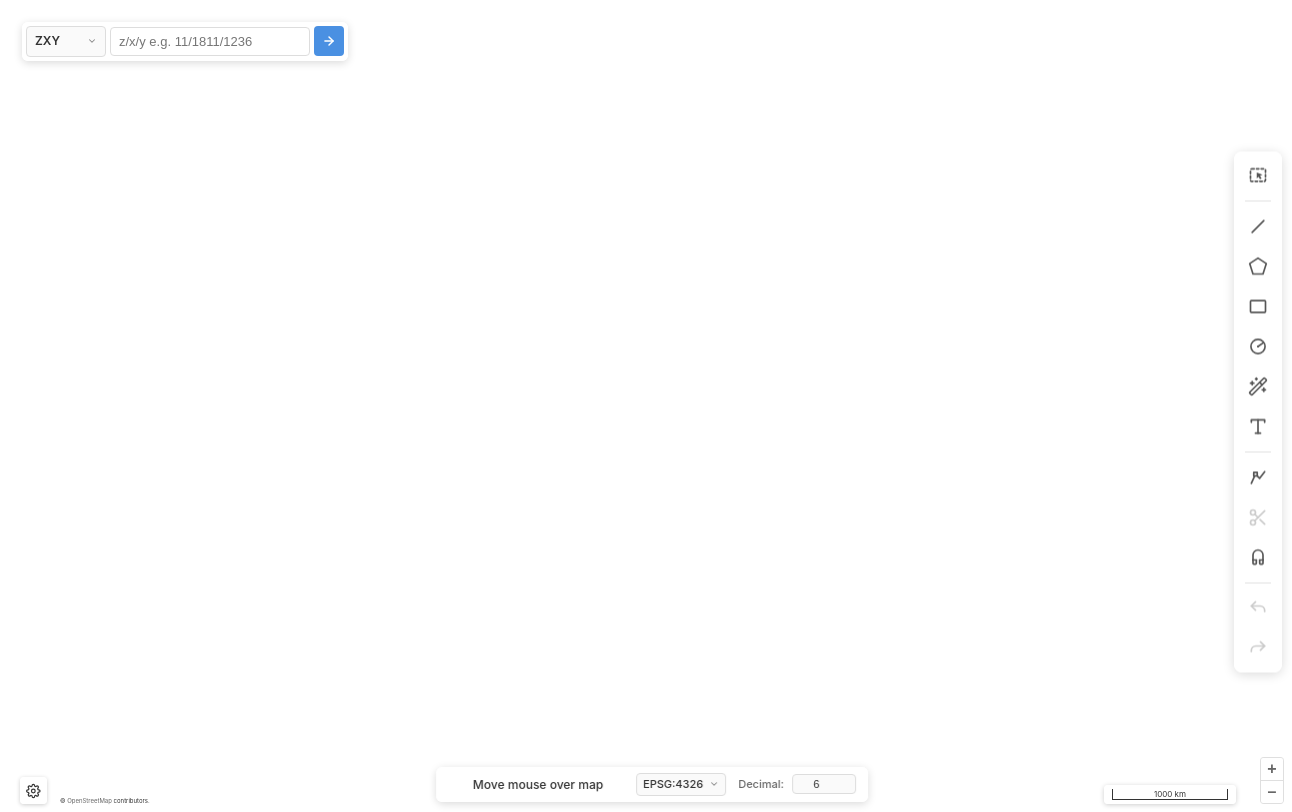
Test case: Delete removes the picked-up vertex
Click the button titled "Draw Line": (1258, 226) [1240,208,1276,244]
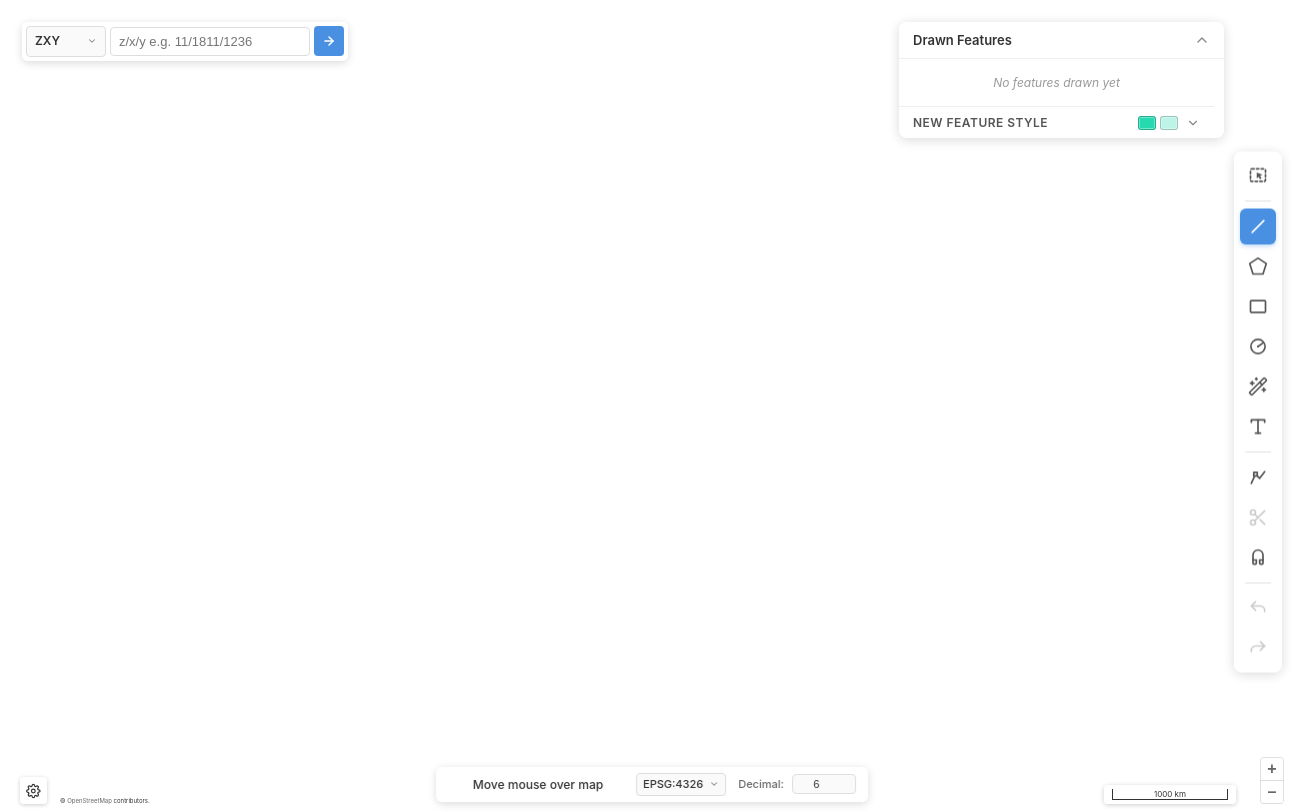
Press the mouse on the element with class "ol-viewport": (652, 412) [12,12,1291,811]
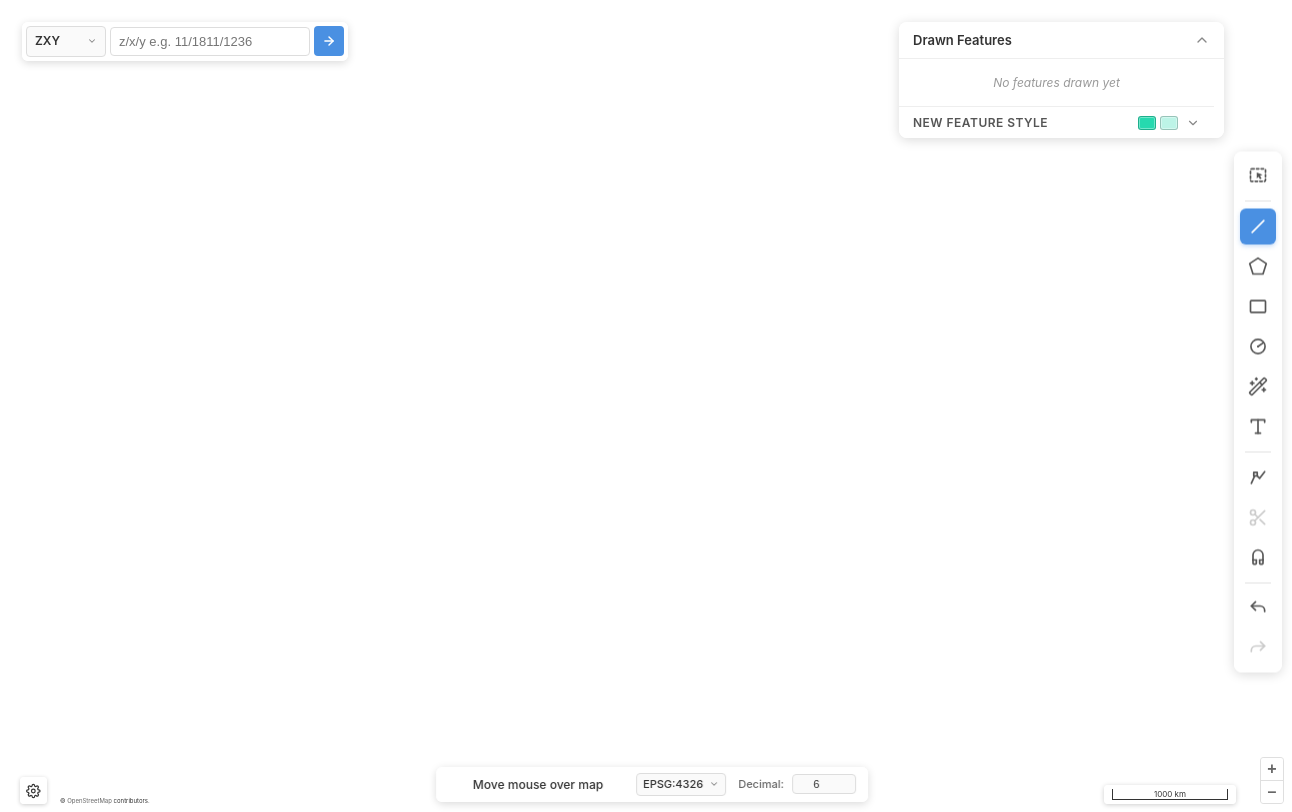
Press the mouse on the element with class "ol-viewport": (652, 412) [12,12,1291,811]
Press the mouse on the element with class "ol-viewport": (652, 412) [12,12,1291,811]
Press the mouse on the element with class "ol-viewport": (652, 412) [12,12,1291,811]
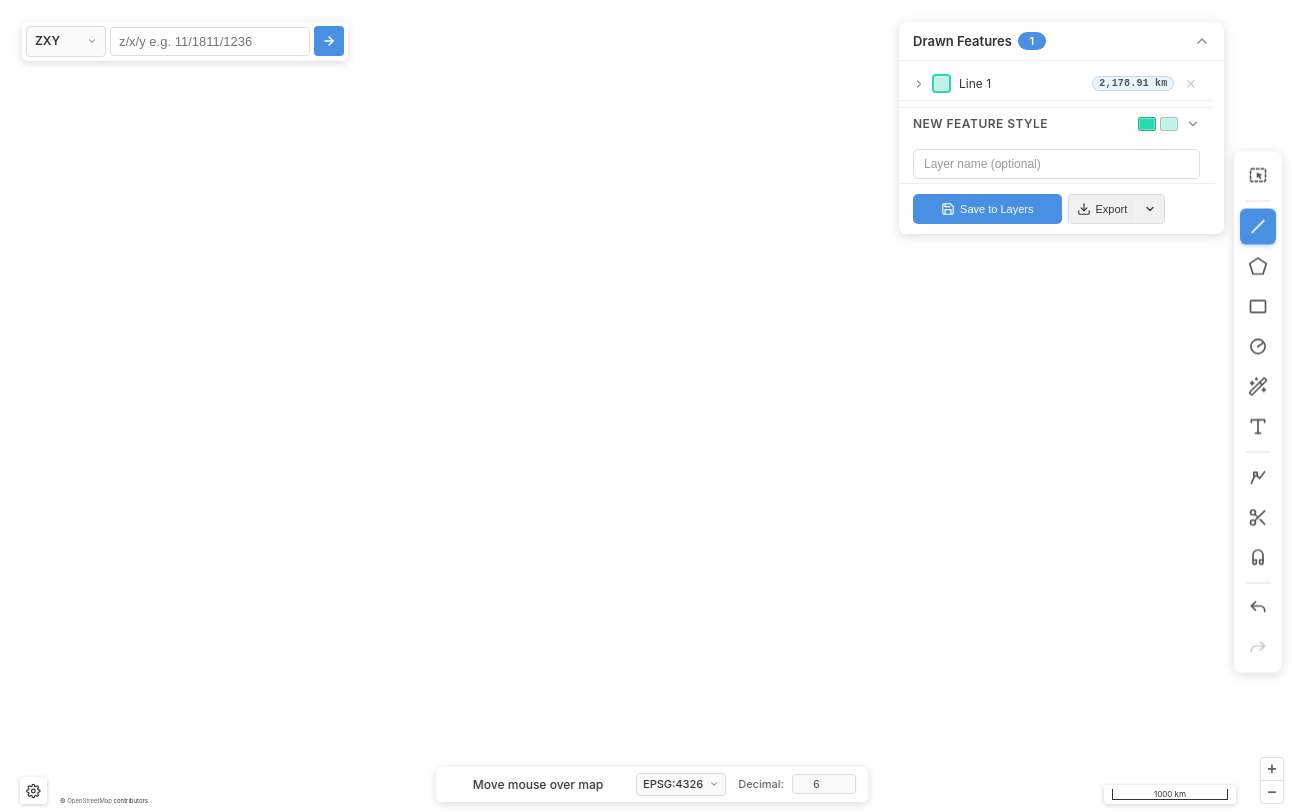
Click the button titled "Edit vertices — drag to reshape drawn features": (1258, 478) [1240,460,1276,496]
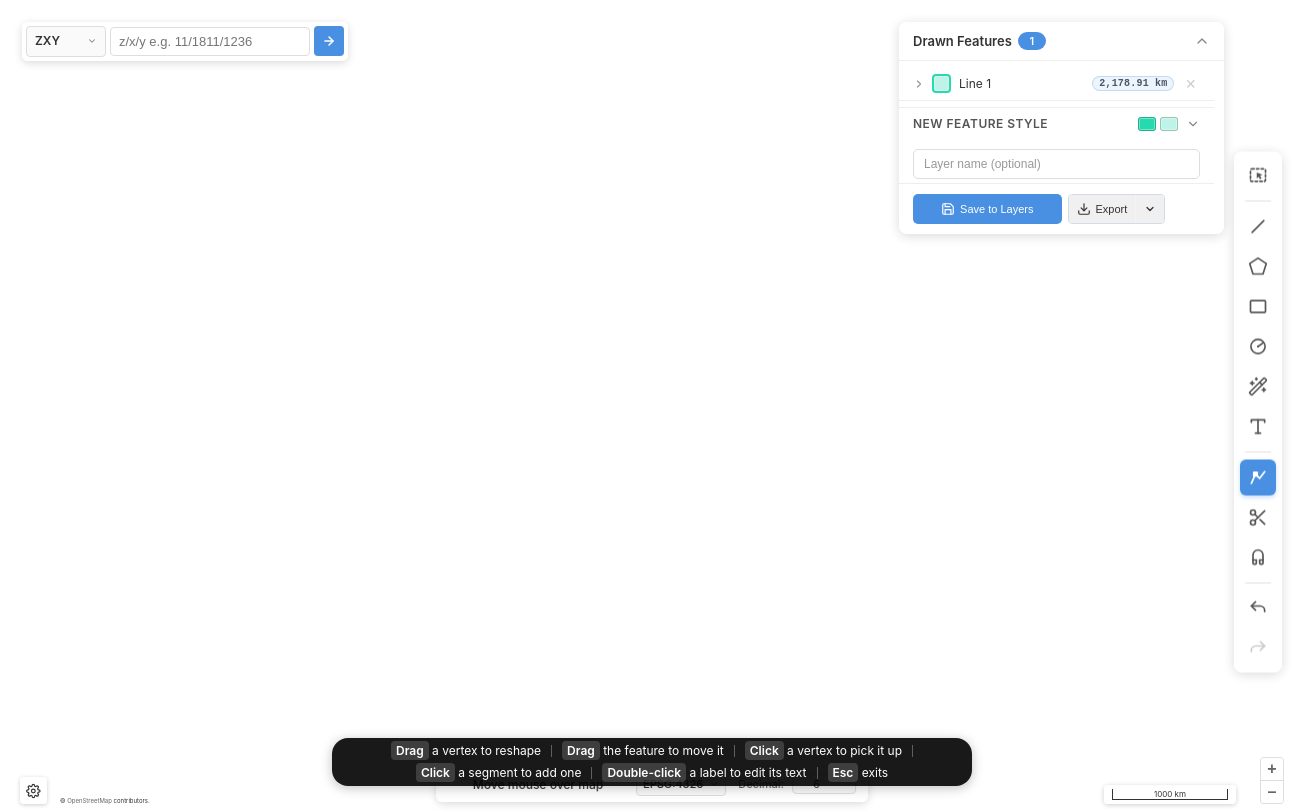
Press the mouse on the element with class "ol-viewport": (652, 412) [12,12,1291,811]
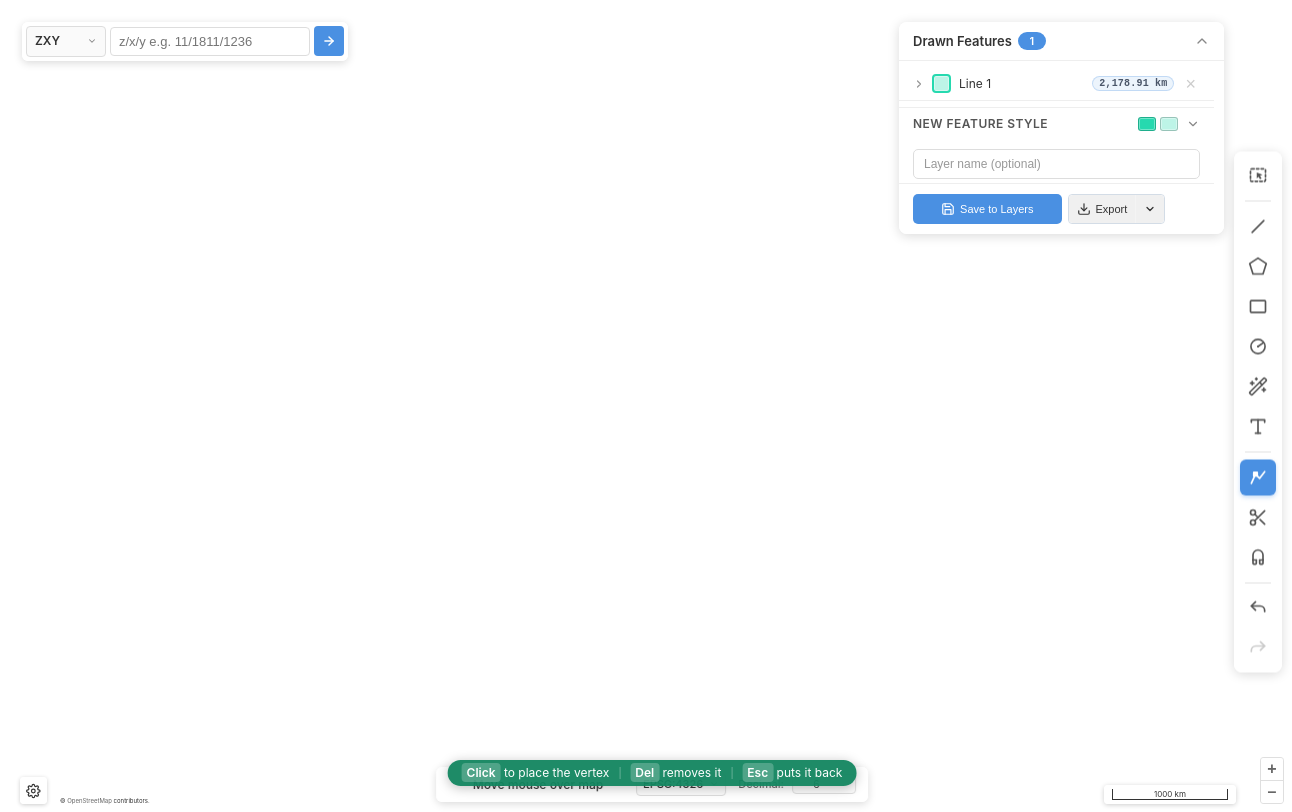
Now the message with class "draw-modify-hint" shows "Click to place the vertex", box [448,760,856,786]
Press Delete
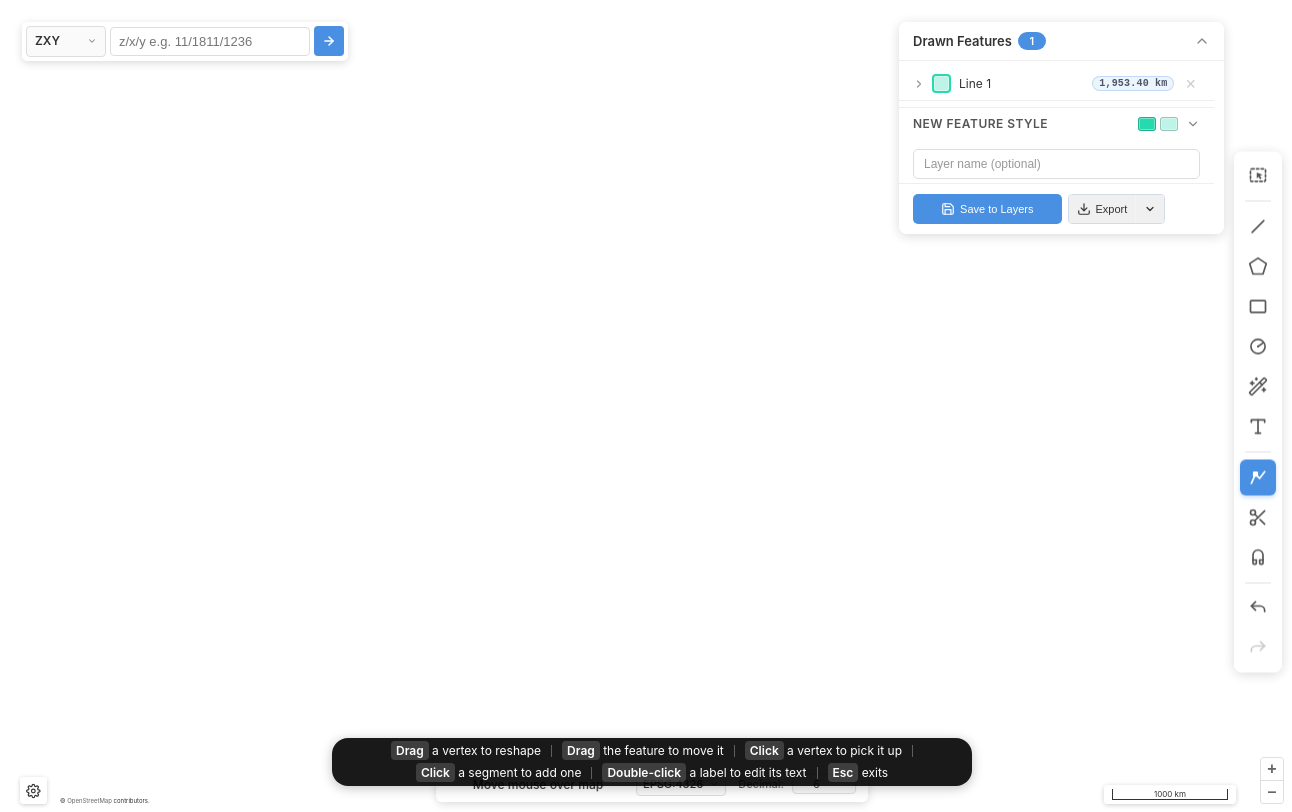
Now the element with class "draw-modify-hint" no longer shows "Click to place the vertex"
